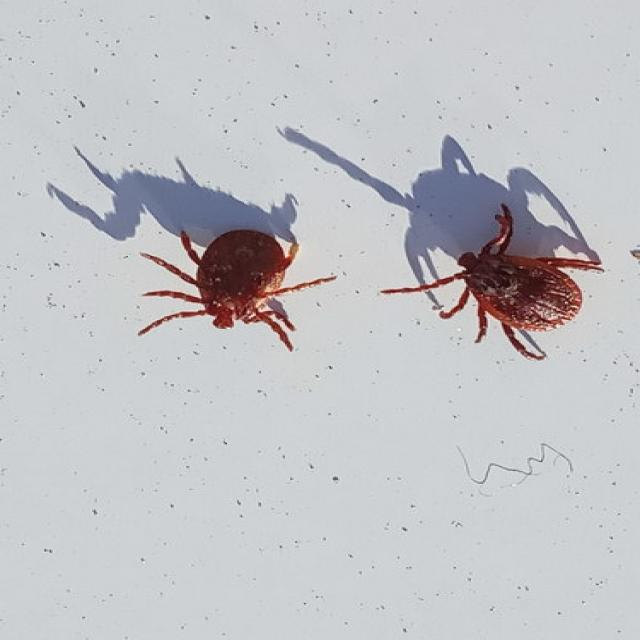Dermacentor Reticulatus-F: (386, 205, 602, 357)
